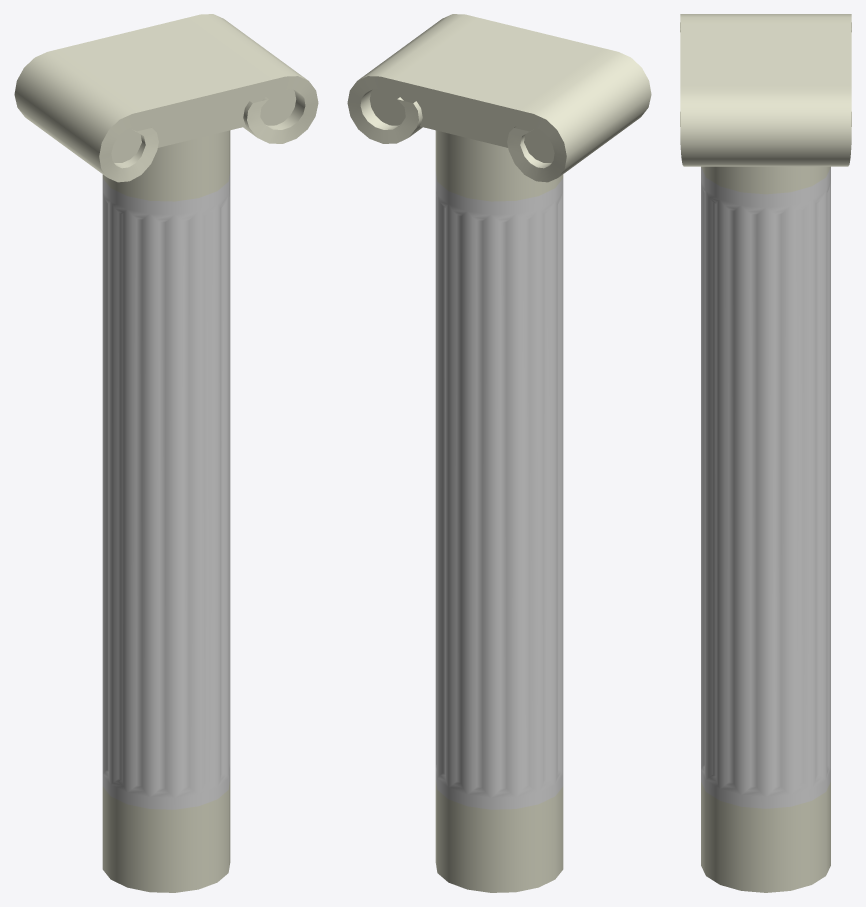
File: SM_HOTEL_Pillar.fbx
3 views of the same model, side by side, from view 1: azimuth 30°, elevation 25°; view 2: azimuth 150°, elevation 25°; view 3: azimuth 270°, elevation 25° (orthographic).
Visible parts, largest first — view 1: SM_HOTEL_Pillar; view 2: SM_HOTEL_Pillar; view 3: SM_HOTEL_Pillar.
Boxes of the visible parts, left/top/right/bottom form: SM_HOTEL_Pillar: left=14, top=14, right=318, bottom=892; SM_HOTEL_Pillar: left=347, top=14, right=651, bottom=892; SM_HOTEL_Pillar: left=680, top=14, right=851, bottom=892.
Size of the model in its own units: 229 by 800 by 154.
